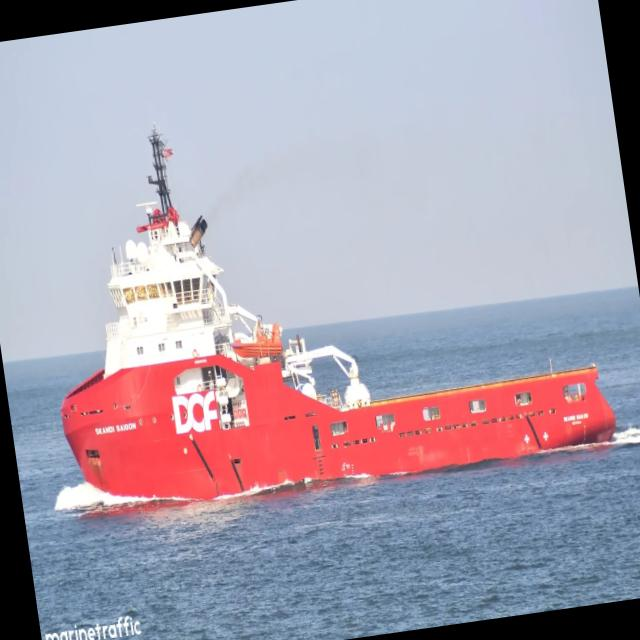Offshore: (61, 130, 615, 500)
